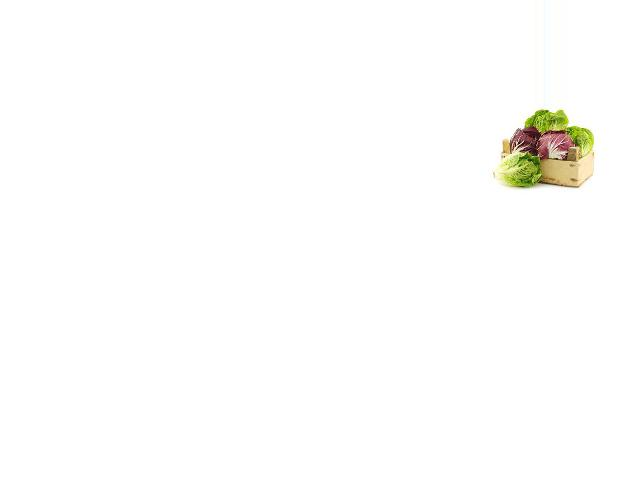lettuce: (524, 109, 568, 139)
